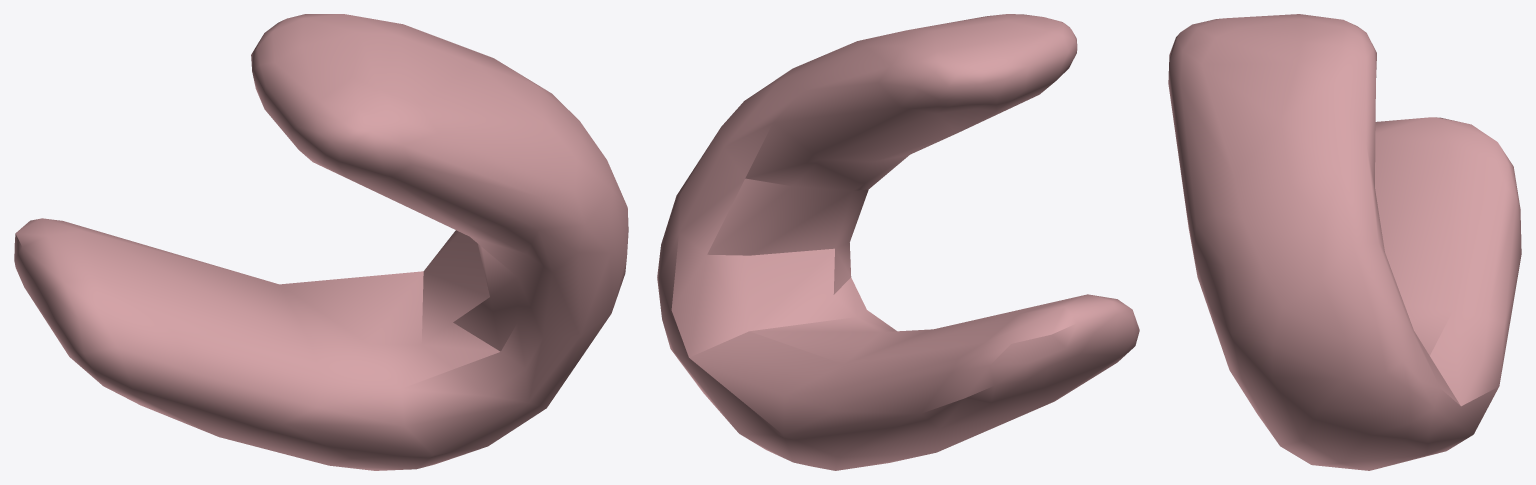
Rendered from fma49068_fj1329.glb.
The picture shows the model from 3 angles, left to right: view 1: azimuth 30°, elevation 25°; view 2: azimuth 150°, elevation 25°; view 3: azimuth 270°, elevation 25°; orthographic projection. The views are drawn at different scales.
Visible parts, largest first — view 1: FMA49068_FJ1329; view 2: FMA49068_FJ1329; view 3: FMA49068_FJ1329.
Boxes of the visible parts, x1,y1,x2,y2 form: FMA49068_FJ1329: (14,14,628,470); FMA49068_FJ1329: (657,14,1139,470); FMA49068_FJ1329: (1168,14,1521,470).
Size of the model in its own units: 0.00426 by 0.00362 by 0.003.
